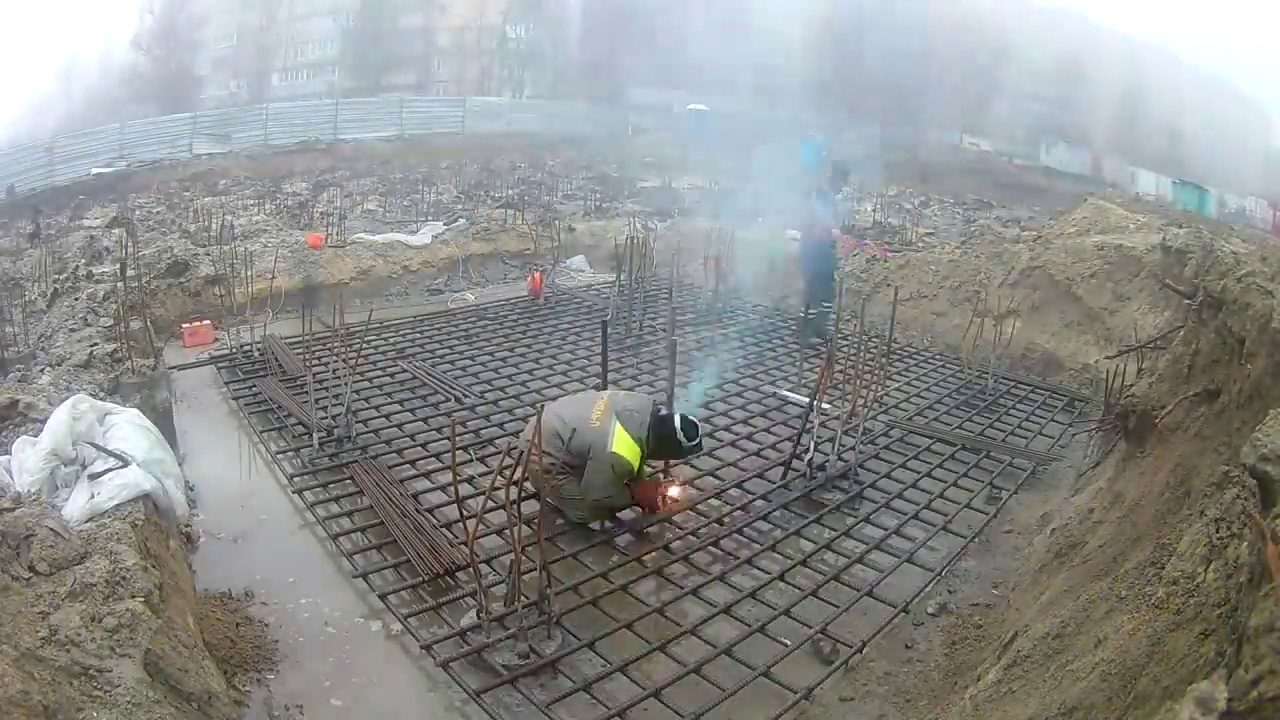helmet: (302, 232, 327, 249), (527, 271, 541, 299)
helmet-off: (651, 412, 703, 461)
person: (524, 396, 706, 543)
